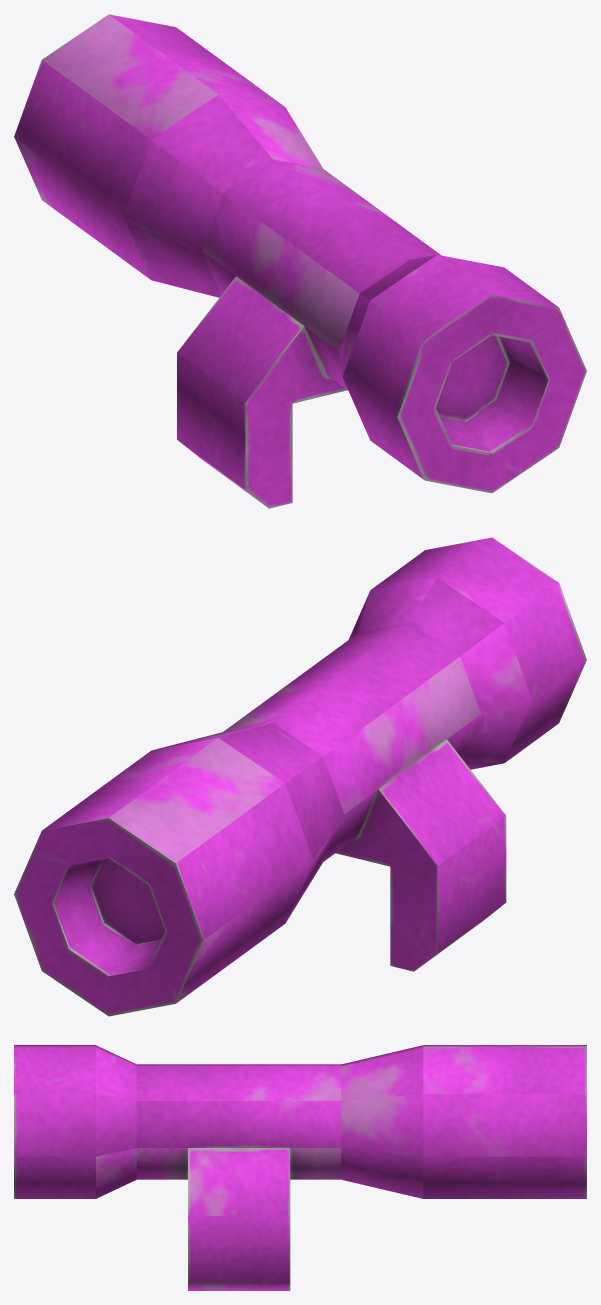
Rendered from scope-small.glb.
The picture shows the model from 3 angles, top to bottom: view 1: azimuth 30°, elevation 25°; view 2: azimuth 150°, elevation 25°; view 3: azimuth 270°, elevation 25°; orthographic projection. The views are drawn at different scales.
Parts seen in each view (by area): view 1: scope-small; view 2: scope-small; view 3: scope-small.
Boxes of the visible parts, x1,y1,x2,y2 form: scope-small: [14, 14, 586, 508]; scope-small: [14, 537, 586, 1016]; scope-small: [14, 1045, 586, 1290].
Size of the model in its own units: 0.11 by 0.11 by 0.28.
Materials: 1 (1 with a texture image).
